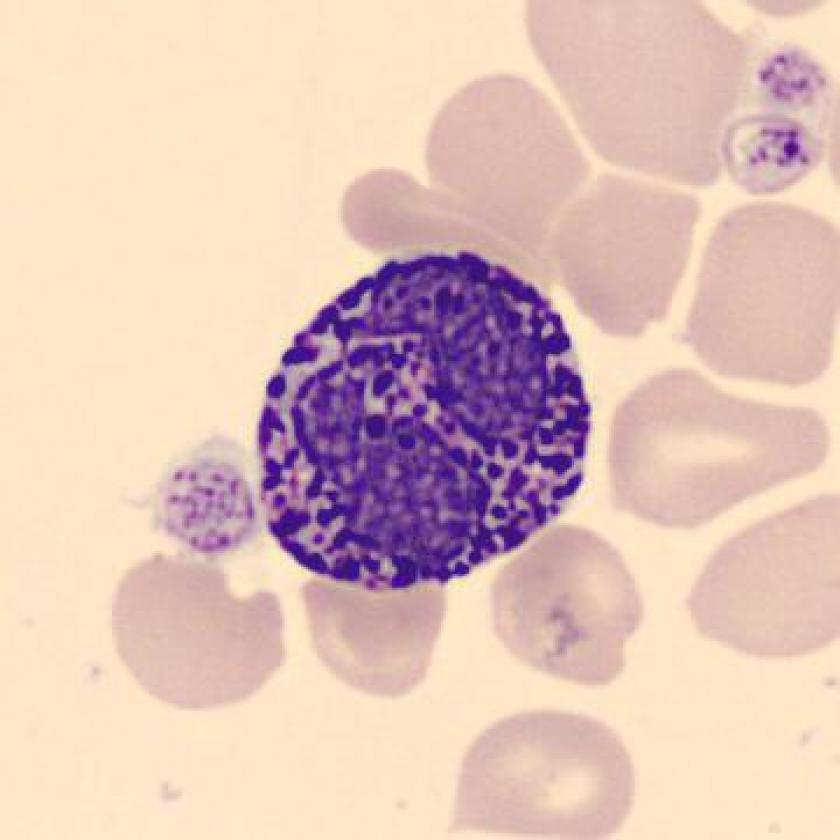basophil: (241, 244, 596, 593)
